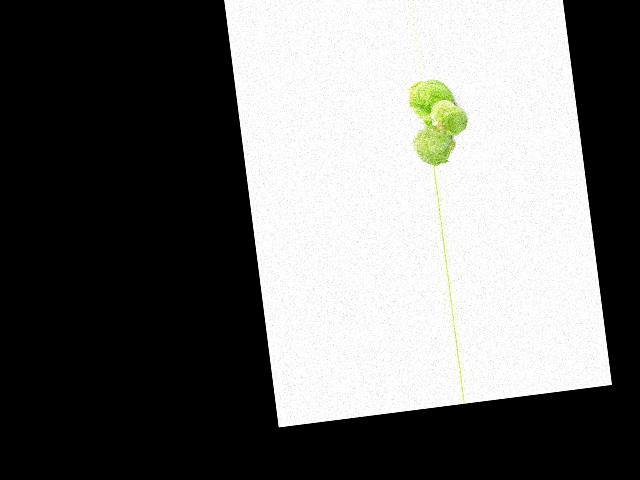lettuce: (409, 79, 453, 120)
